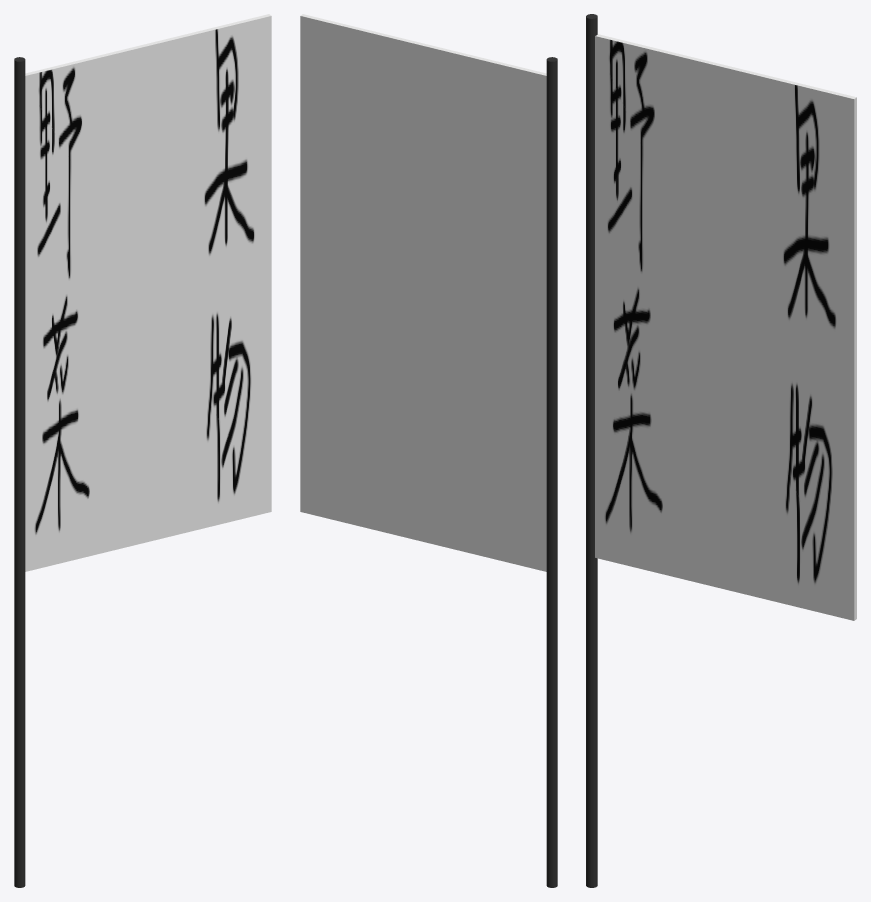
File: Flag.fbx
3 renders of one model, left to right at view 1: azimuth 30°, elevation 25°; view 2: azimuth 150°, elevation 25°; view 3: azimuth 330°, elevation 25°, orthographic. The views are drawn at different scales.
Parts seen in each view (by area): view 1: Flag, Pole; view 2: Flag, Pole; view 3: Flag, Pole.
Boxes of the visible parts, bbox=[...] form: Flag: bbox=[25, 14, 271, 571]; Pole: bbox=[14, 57, 25, 887]; Flag: bbox=[300, 14, 546, 571]; Pole: bbox=[546, 57, 557, 887]; Flag: bbox=[595, 34, 856, 620]; Pole: bbox=[586, 14, 597, 887].
Bounding box in the file's own units: 1613 × 4985 × 60.3.
Materials: 2 (1 with a texture image).
